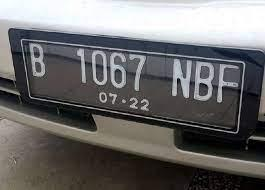0: (89, 49, 110, 86)
1: (72, 44, 89, 86)
6: (110, 49, 128, 90)
7: (127, 51, 148, 94)
B: (192, 62, 215, 100), (26, 42, 49, 78)
F: (214, 62, 239, 104)
N: (170, 57, 193, 99)
